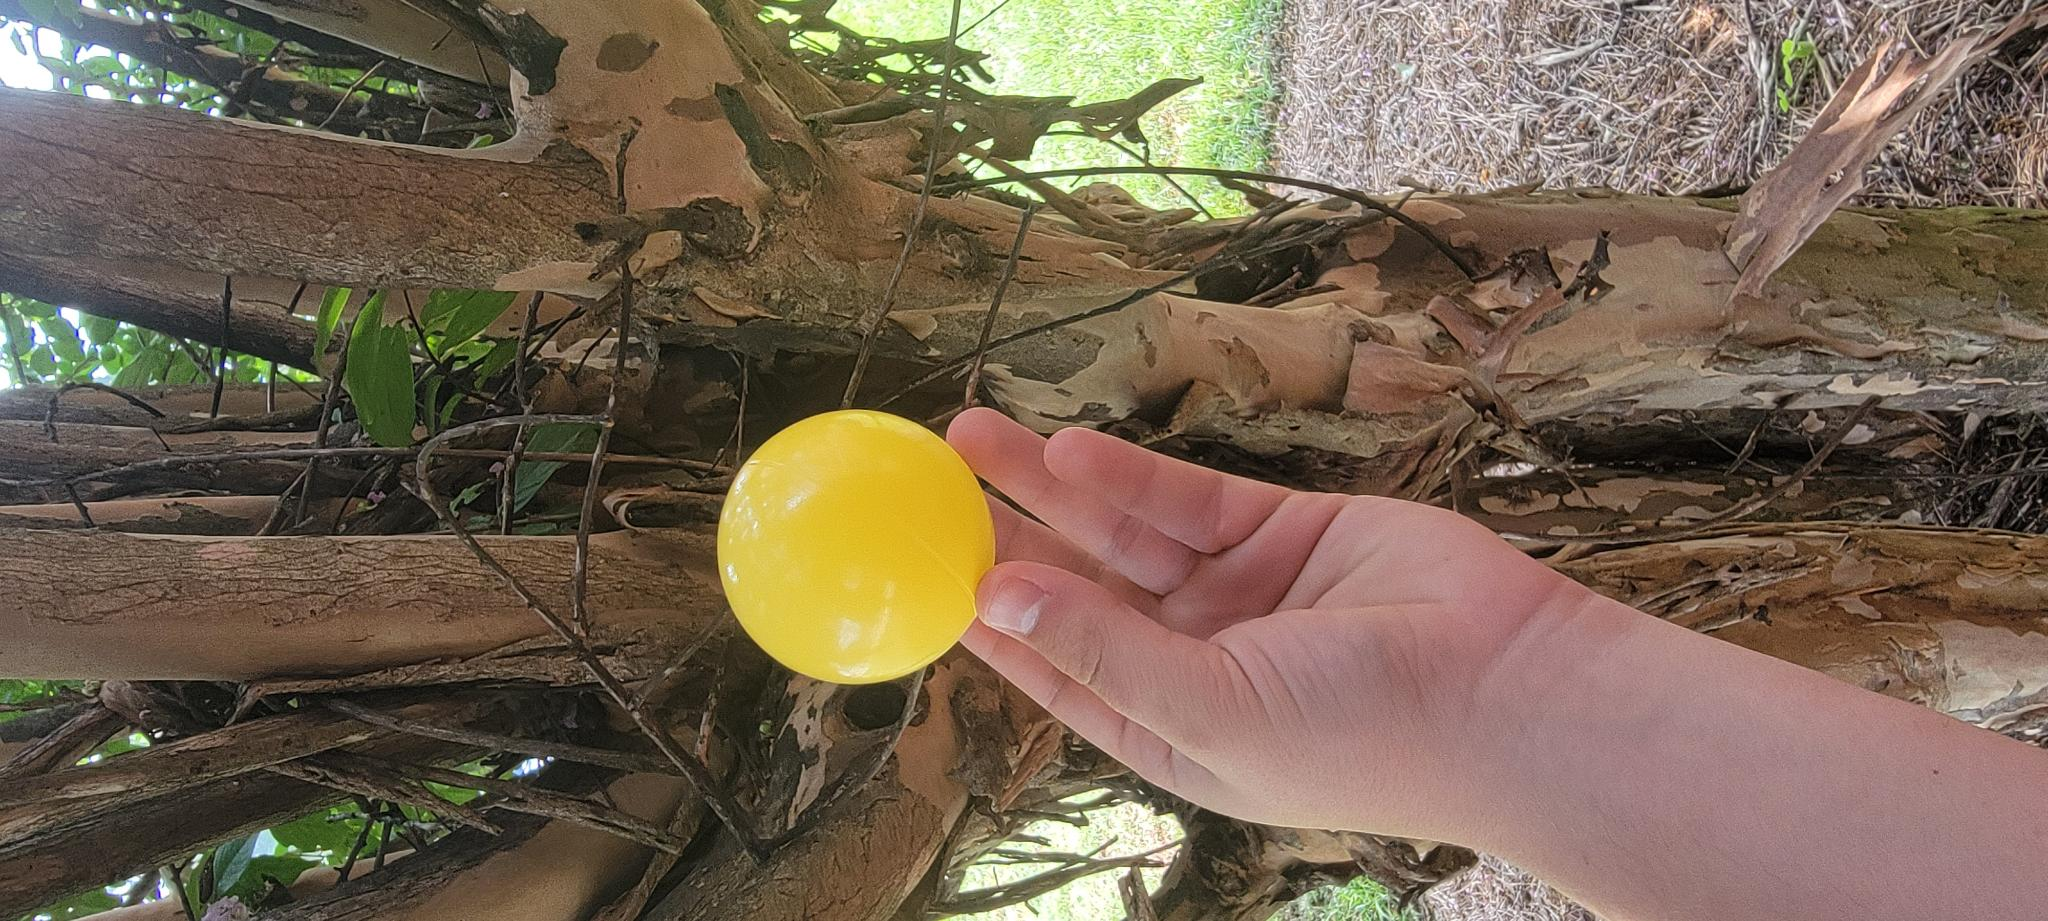Yellow-Ball: (235, 711, 512, 921)
